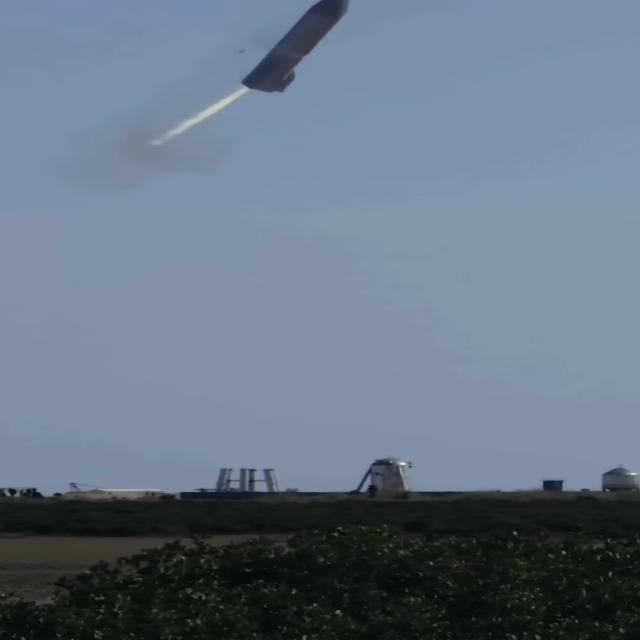Missile: (212, 0, 369, 102)
